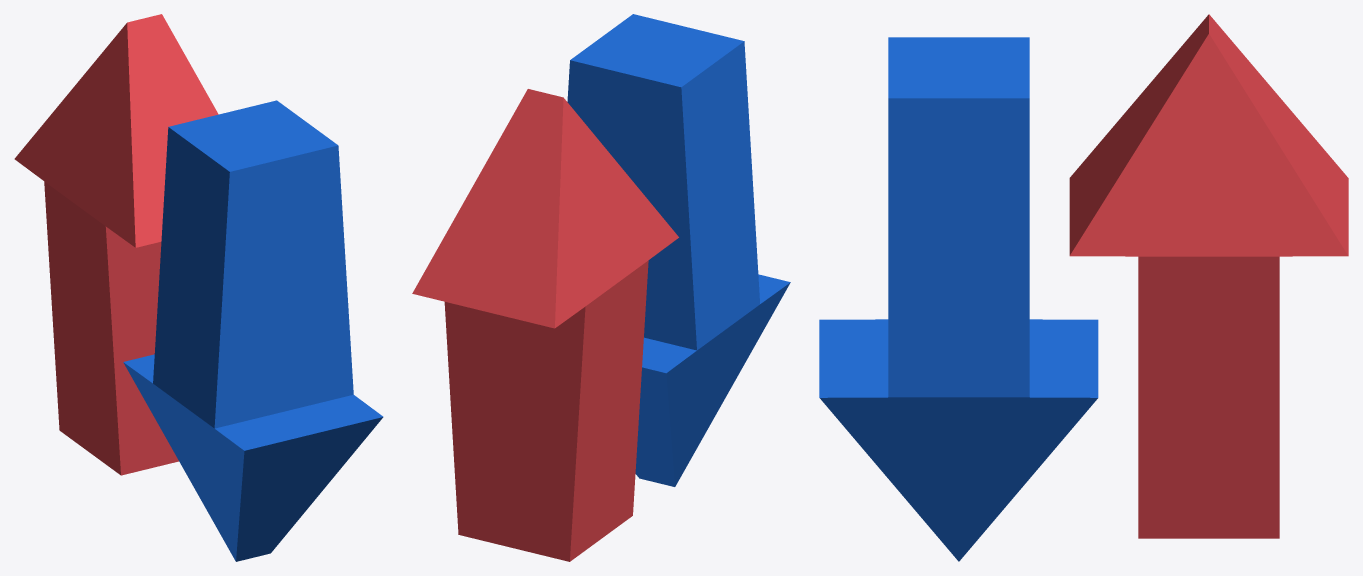
File: arrows-v1.glb
3 renders of one model, left to right at view 1: azimuth 30°, elevation 25°; view 2: azimuth 150°, elevation 25°; view 3: azimuth 270°, elevation 25°, orthographic. The views are drawn at different scales.
Parts seen in each view (by area): view 1: ArrowDown, ArrowUp; view 2: ArrowUp, ArrowDown; view 3: ArrowDown, ArrowUp.
Part boxes in pixels (<box>): ArrowDown: <box>123,100,383,561</box>; ArrowUp: <box>14,14,218,475</box>; ArrowUp: <box>412,89,678,561</box>; ArrowDown: <box>567,14,790,486</box>; ArrowDown: <box>819,37,1098,561</box>; ArrowUp: <box>1069,14,1348,538</box>.
Bounding box in the file's own units: 0.4815 × 1.52 × 1.38.
